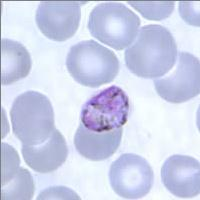Infected: (80, 83, 131, 132)
Uninfected: (126, 22, 176, 77), (9, 89, 53, 148), (152, 50, 198, 105), (88, 1, 139, 49), (67, 40, 117, 87), (74, 115, 121, 161), (109, 153, 153, 200), (21, 125, 65, 172), (36, 0, 81, 43), (161, 152, 200, 200), (0, 36, 31, 86)
